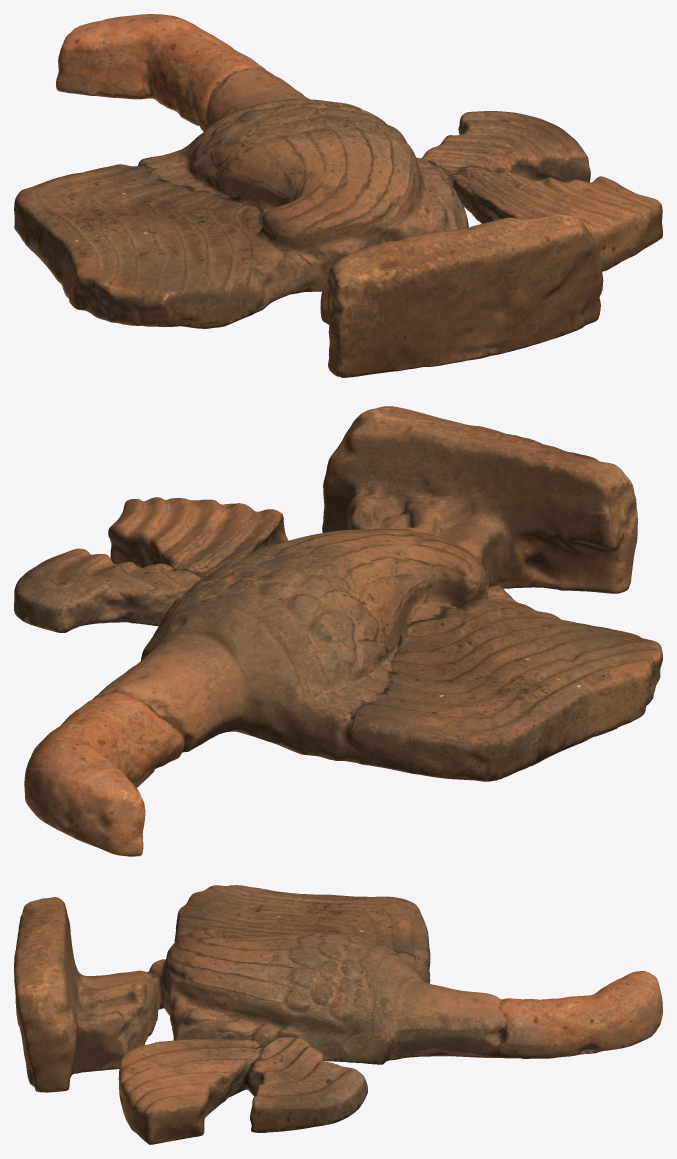
The model's file is MysonMuseum_chimhamsa_final.glb.
3 views of the same model, one above another, from view 1: azimuth 30°, elevation 25°; view 2: azimuth 150°, elevation 25°; view 3: azimuth 270°, elevation 25° (orthographic). The views are drawn at different scales.
Size of the model in its own units: 0.5038 by 0.1091 by 0.6334.
1 material, 1 textured.
